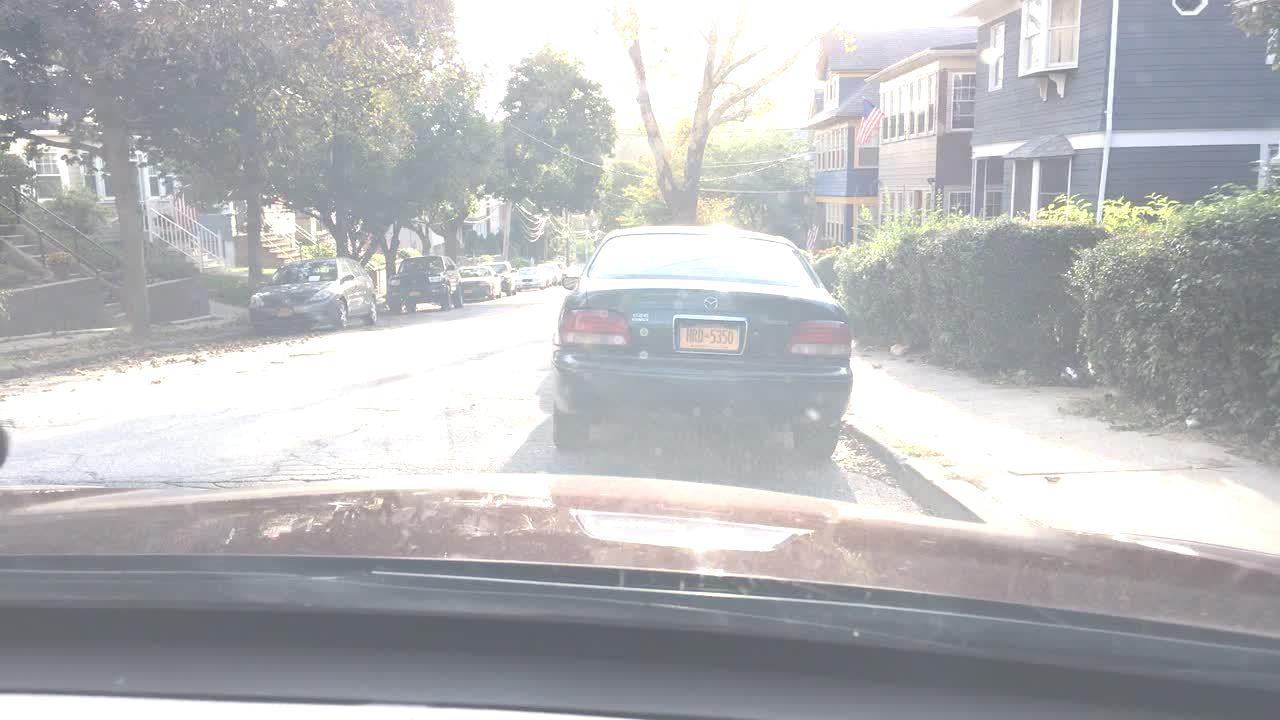Mercedes: (698, 294, 724, 312)
